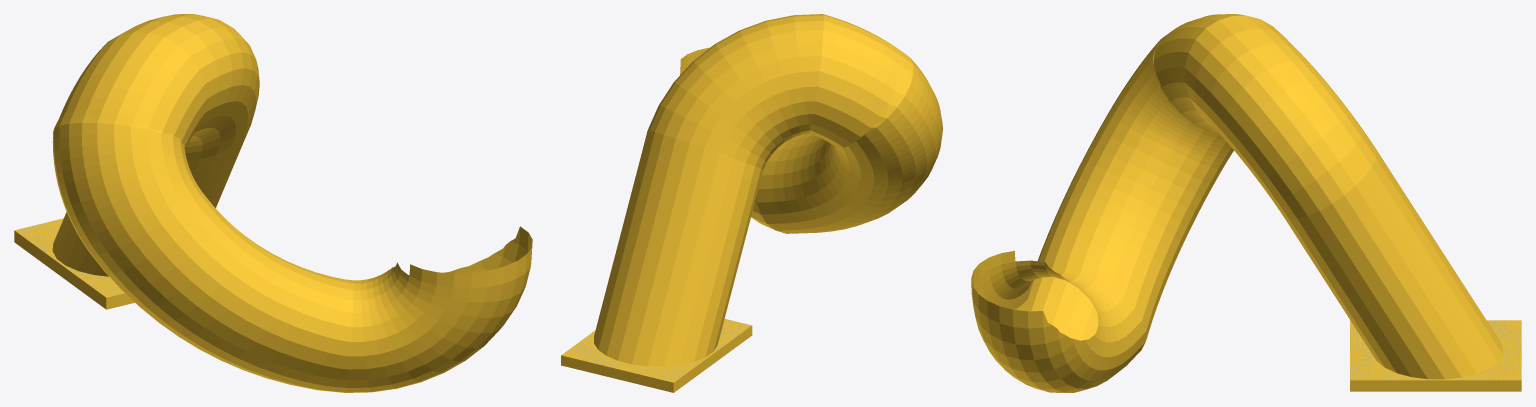
File: TubeSlide.FBX
The picture shows the model from 3 angles, left to right: view 1: azimuth 30°, elevation 25°; view 2: azimuth 150°, elevation 25°; view 3: azimuth 270°, elevation 25°; orthographic projection. The views are drawn at different scales.
Parts seen in each view (by area): view 1: Model; view 2: Model; view 3: Model.
Part boxes in pixels (x1,y1,x2,y2): Model: [14, 14, 532, 392]; Model: [561, 14, 942, 392]; Model: [971, 14, 1521, 392].
Bounding box in the file's own units: 77.41 × 65.12 × 106.
